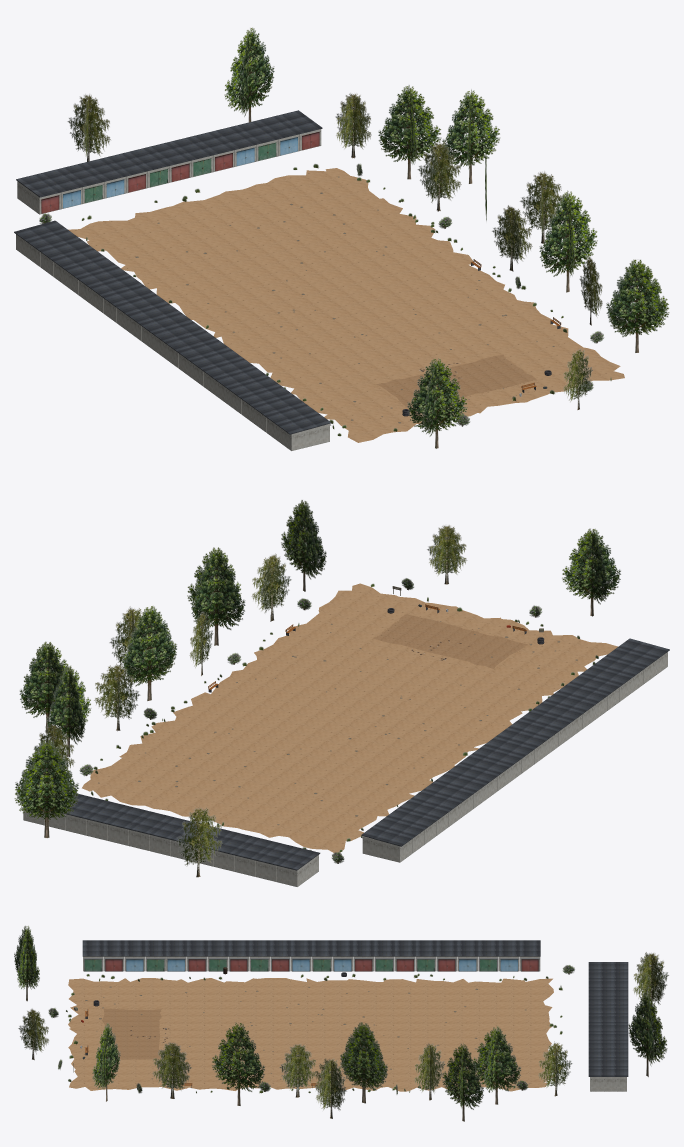
Rendered from field.glb.
The picture shows the model from 3 angles, top to bottom: view 1: azimuth 30°, elevation 25°; view 2: azimuth 150°, elevation 25°; view 3: azimuth 270°, elevation 25°; orthographic projection. The views are drawn at different scales.
Parts seen in each view (by area): view 1: court, clay-dom, tree2-1, tree6-1, tree13-1, tree11-0, tree8-0, tree0-0, tree0-1, tree12-1, tree9-1, tree5-0 (+9 smaller); view 2: court, clay-dom, tree8-1, tree11-1, tree2-1, tree8-0, tree4-1, tree9-0, tree0-1, tree4-0, tree5-1, tree13-0 (+15 smaller); view 3: court, clay-dom, tree2-0, tree6-0, tree13-0, tree8-1, tree4-0, tree4-1, tree0-0, tree7-1, tree1-0, tree9-1 (+49 smaller).
Part boxes in pixels (bbox=[...]): court: bbox=[68, 168, 624, 442]; clay-dom: bbox=[376, 354, 536, 409]; tree2-1: bbox=[539, 191, 597, 292]; tree6-1: bbox=[378, 86, 441, 179]; tree13-1: bbox=[442, 90, 500, 183]; tree11-0: bbox=[407, 358, 467, 448]; tree8-0: bbox=[224, 27, 274, 121]; tree0-0: bbox=[606, 259, 669, 352]; tree0-1: bbox=[607, 259, 667, 352]; tree12-1: bbox=[519, 172, 565, 243]; tree9-1: bbox=[67, 94, 110, 161]; tree5-0: bbox=[417, 143, 461, 210]; court: bbox=[82, 583, 617, 852]; clay-dom: bbox=[373, 614, 527, 668]; tree8-1: bbox=[14, 740, 78, 837]; tree11-1: bbox=[562, 528, 620, 615]; tree2-1: bbox=[187, 547, 245, 645]; tree8-0: bbox=[15, 740, 78, 838]; tree4-1: bbox=[121, 605, 177, 700]; tree9-0: bbox=[175, 807, 222, 877]; tree0-1: bbox=[281, 500, 326, 591]; tree4-0: bbox=[122, 607, 176, 700]; tree5-1: bbox=[94, 665, 140, 730]; tree13-0: bbox=[19, 642, 69, 732]; court: bbox=[68, 978, 553, 1091]; clay-dom: bbox=[102, 1009, 161, 1059]; tree2-0: bbox=[211, 1022, 264, 1105]; tree6-0: bbox=[472, 1027, 521, 1104]; tree13-0: bbox=[442, 1043, 483, 1121]; tree8-1: bbox=[628, 992, 667, 1076]; tree4-0: bbox=[340, 1022, 387, 1103]; tree4-1: bbox=[340, 1022, 387, 1103]; tree0-0: bbox=[92, 1023, 120, 1101]; tree7-1: bbox=[538, 1042, 572, 1096]; tree1-0: bbox=[152, 1042, 191, 1098]; tree9-1: bbox=[633, 953, 669, 1005].
Size of what is drawn, in the model's own units: 63.57 by 14 by 99.32.
24 materials, 19 textured.
